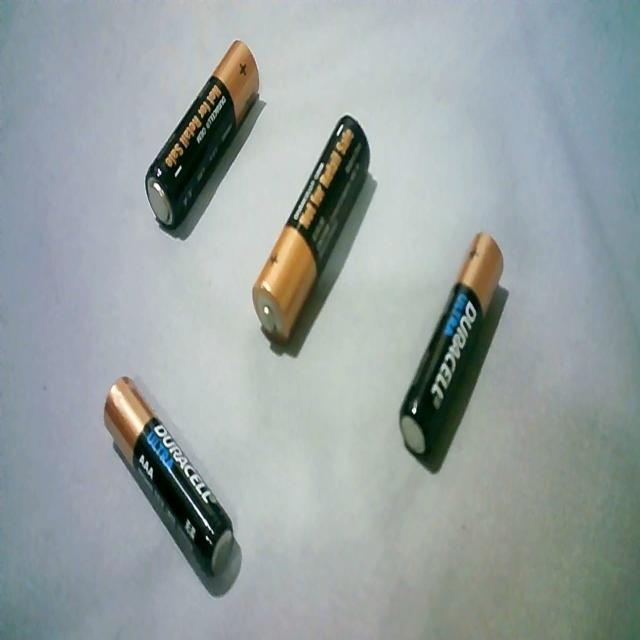AA: (250, 104, 374, 352), (141, 30, 264, 238)
AAA: (101, 367, 239, 590), (394, 223, 509, 467)
